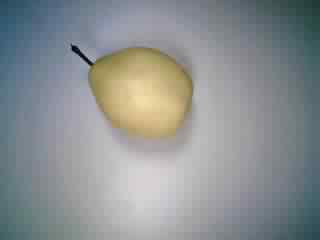pear: (59, 34, 205, 145)
